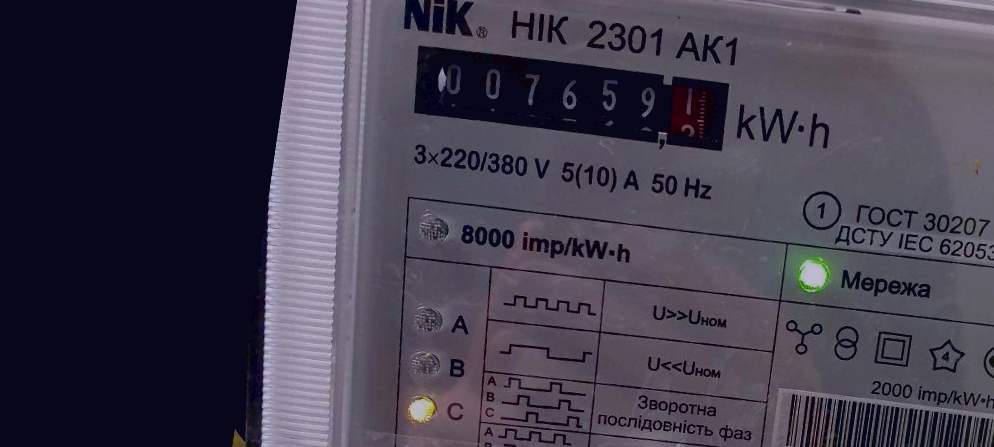0: (479, 64, 507, 104), (440, 58, 466, 100)
1: (678, 82, 699, 120)
5: (596, 75, 622, 114)
6: (556, 74, 583, 113)
7: (516, 68, 543, 109)
9: (634, 82, 660, 122)
screen: (398, 31, 742, 167)
